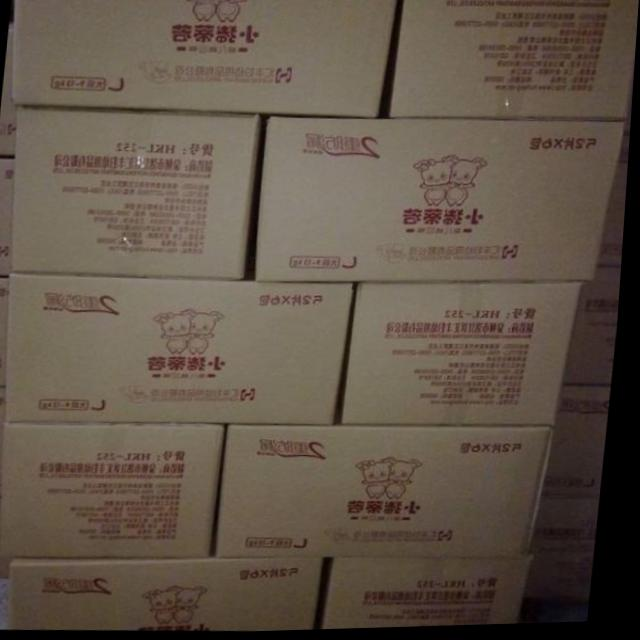box: (257, 117, 629, 286), (10, 260, 361, 426), (13, 0, 400, 119), (223, 426, 560, 562), (14, 105, 269, 281), (343, 283, 587, 429), (384, 0, 639, 123), (5, 423, 233, 558), (14, 554, 335, 632), (325, 561, 541, 632), (534, 499, 607, 603), (548, 388, 616, 498), (566, 269, 625, 389), (601, 133, 632, 270), (0, 23, 17, 156), (0, 156, 16, 277), (0, 485, 19, 577), (0, 277, 12, 385), (0, 385, 9, 484)
